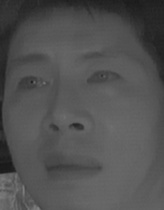eye: (12, 72, 51, 96), (86, 66, 124, 89)
mouth: (42, 147, 104, 184)
